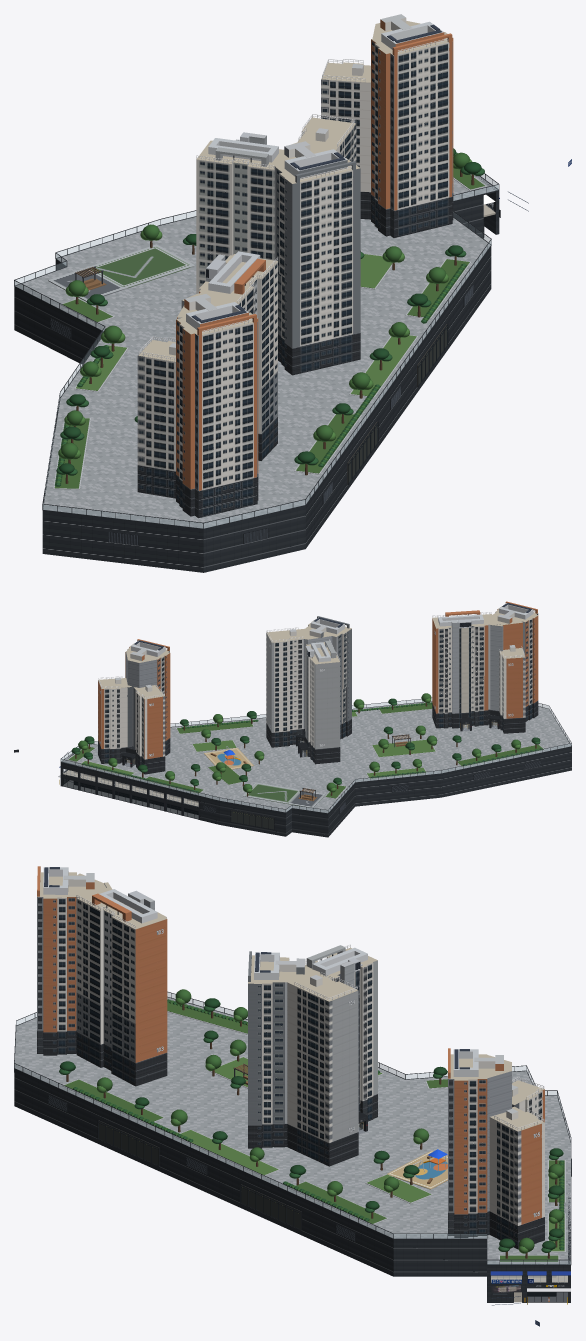
The model's file is Community_north.glb.
3 renders of one model, top to bottom at view 1: azimuth 30°, elevation 25°; view 2: azimuth 150°, elevation 25°; view 3: azimuth 270°, elevation 25°, orthographic. The views are drawn at different scales.
Parts seen in each view (by area): view 1: KumhoParkHills_North_Community_8_4m, WingC_South_21F, North_Rooftop_Park_Landscaping, WingC_South_20F, Wing_South_20F, WingA_NW_20F_85sqm, WingA_NE_20F, WingB_NW_15F, Wing_NW_15F, WingB_NE_21F; view 2: KumhoParkHills_North_Community_8_4m, North_Rooftop_Park_Landscaping, WingA_NE_20F, WingB_NE_21F, WingA_NW_20F_85sqm, Wing_NE_15F, Wing_NW_15F, WingB_NW_15F, WingC_South_20F, WingC_South_21F, KumhoParkHills_103_GroundUp, Wing_South_20F (+2 smaller); view 3: KumhoParkHills_North_Community_8_4m, WingA_NE_20F, North_Rooftop_Park_Landscaping, WingB_NE_21F, WingC_South_21F, WingC_South_20F, Wing_South_20F, Wing_NE_15F, WingA_NW_20F_85sqm, KumhoParkHills_105_GroundUp, Wing_NW_15F.
Boxes of the visible parts, x1,y1,x2,y2 form: KumhoParkHills_North_Community_8_4m: [14, 173, 499, 572]; WingC_South_21F: [274, 141, 360, 375]; North_Rooftop_Park_Landscaping: [48, 148, 486, 489]; WingC_South_20F: [176, 294, 258, 518]; Wing_South_20F: [371, 14, 453, 237]; WingA_NW_20F_85sqm: [196, 132, 285, 293]; WingA_NE_20F: [198, 251, 277, 460]; WingB_NW_15F: [137, 336, 175, 498]; Wing_NW_15F: [321, 59, 370, 219]; WingB_NE_21F: [298, 114, 356, 164]; KumhoParkHills_North_Community_8_4m: [58, 697, 571, 837]; North_Rooftop_Park_Landscaping: [67, 693, 544, 807]; WingA_NE_20F: [432, 610, 495, 731]; WingB_NE_21F: [266, 627, 305, 747]; WingA_NW_20F_85sqm: [298, 639, 340, 764]; Wing_NE_15F: [98, 676, 131, 763]; Wing_NW_15F: [133, 685, 165, 774]; WingB_NW_15F: [499, 645, 525, 733]; WingC_South_20F: [493, 601, 538, 721]; WingC_South_21F: [305, 616, 351, 739]; KumhoParkHills_103_GroundUp: [489, 614, 522, 729]; Wing_South_20F: [125, 639, 170, 755]; KumhoParkHills_North_Community_8_4m: [14, 991, 571, 1302]; WingA_NE_20F: [76, 888, 167, 1086]; North_Rooftop_Park_Landscaping: [59, 989, 565, 1262]; WingB_NE_21F: [286, 972, 358, 1166]; WingC_South_21F: [248, 951, 305, 1148]; WingC_South_20F: [37, 866, 94, 1055]; Wing_South_20F: [448, 1048, 503, 1237]; Wing_NE_15F: [489, 1106, 544, 1249]; WingA_NW_20F_85sqm: [305, 944, 377, 1134]; KumhoParkHills_105_GroundUp: [485, 1055, 511, 1235]; Wing_NW_15F: [512, 1077, 544, 1122].
Bounding box in the file's own units: 235 × 70.91 × 171.
519 materials, 245 textured.
